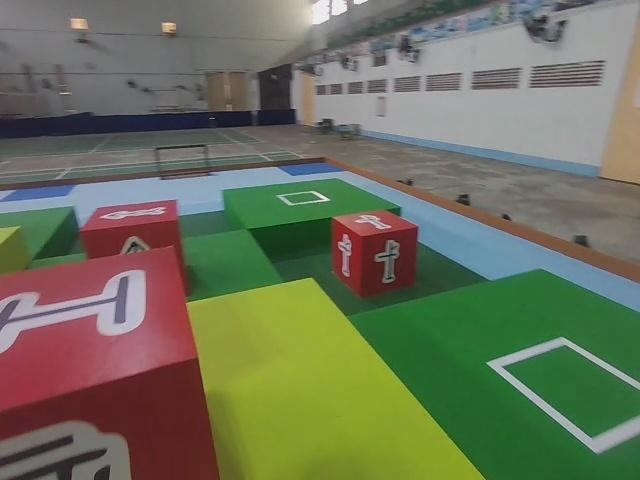R2 Real: (325, 207, 420, 300)
